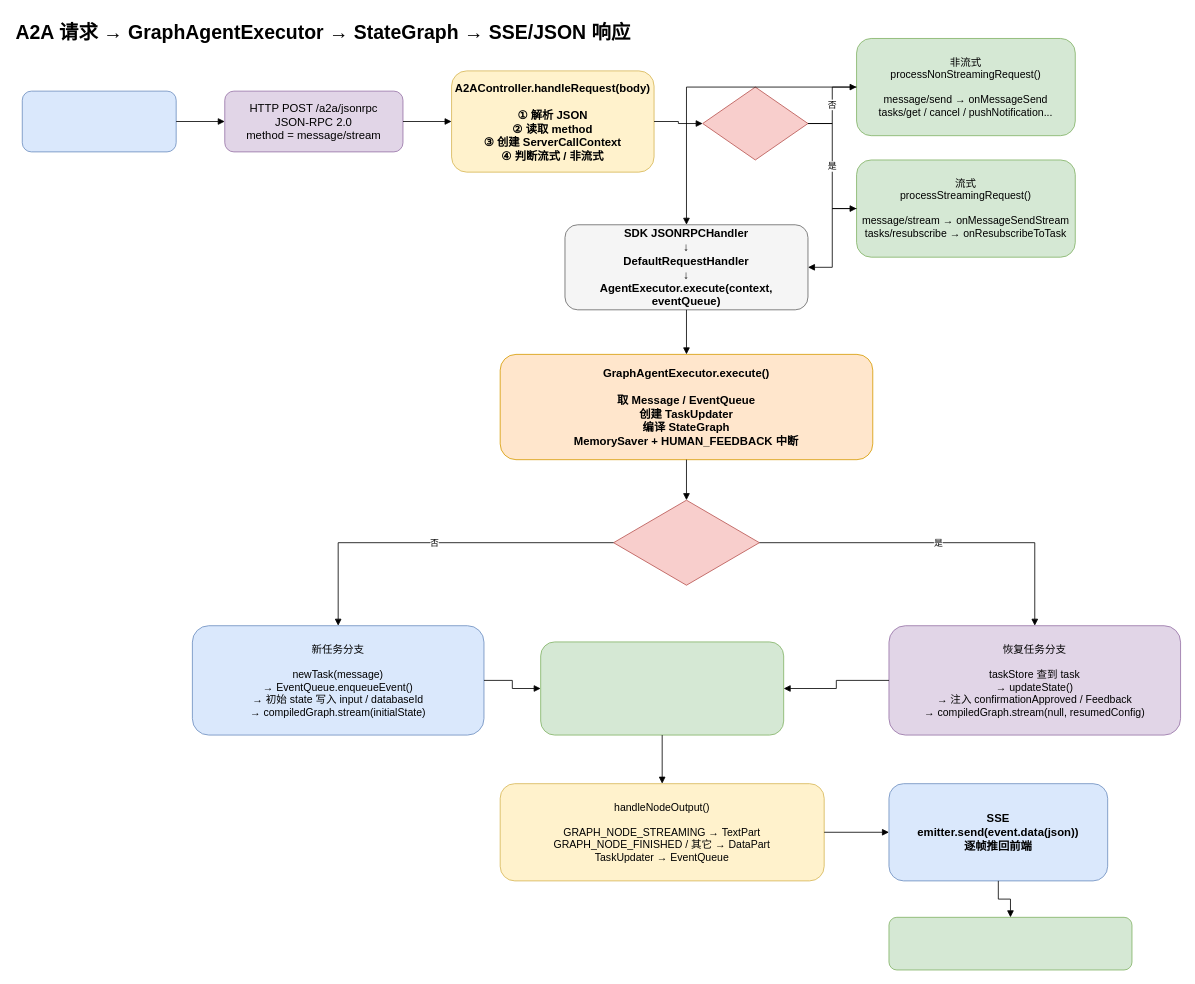
This 1195x984 diagram has some shape labels left out. The shapes that lost their labels are listed below. From the top down, each one's box as (x1, y1, x2, y2) in pixels, then its label:
(21, 90, 176, 152): 前端 / A2A Client sendMessageStream()
(702, 86, 808, 160): streaming?
(613, 499, 759, 585): taskId 已存在？
(540, 641, 784, 735): StateGraph 各 Agent / Graph Node 执行 Planner / Supervisor / Tool 等节点按图运行
(888, 917, 1132, 970): 前端收到 A2A Artifact / JSON-RPC Response
